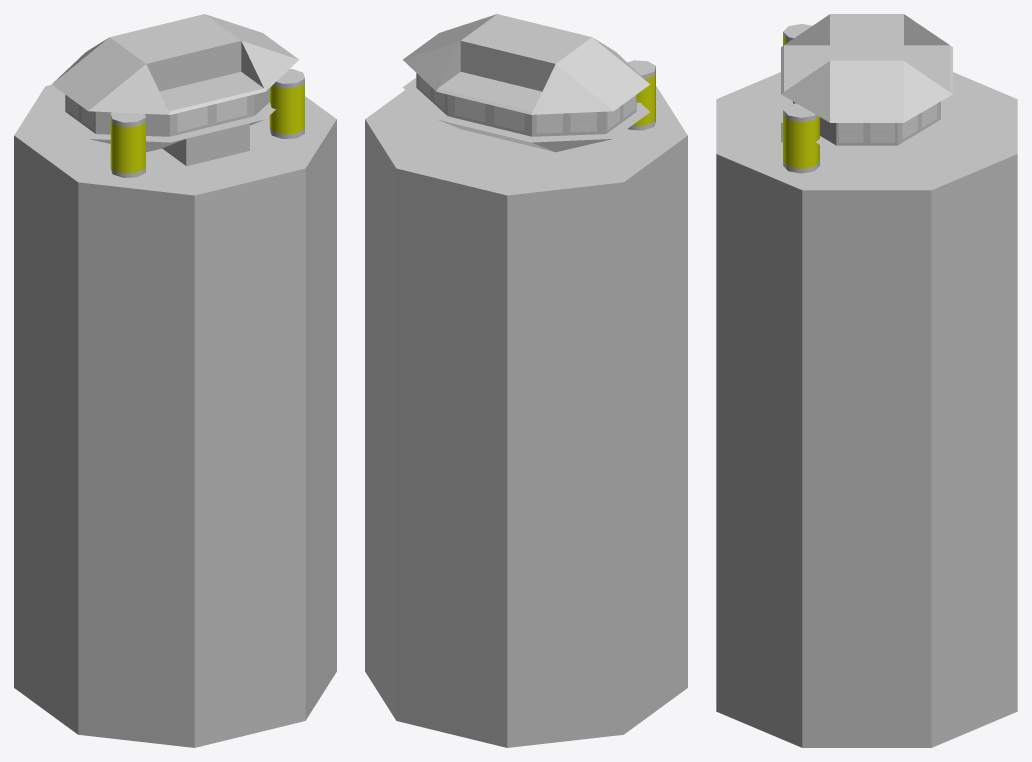
The model's file is factory1_lod1.dae.
The picture shows the model from 3 angles, left to right: view 1: azimuth 30°, elevation 25°; view 2: azimuth 150°, elevation 25°; view 3: azimuth 270°, elevation 25°; orthographic projection.
Visible parts, largest first — view 1: factory1_lod1; view 2: factory1_lod1; view 3: factory1_lod1.
Part boxes in pixels (box(x1,y1,x2,y2)): factory1_lod1: box(14, 14, 336, 747); factory1_lod1: box(365, 14, 687, 747); factory1_lod1: box(716, 14, 1017, 747).
Bounding box in the file's own units: 98 × 98 × 232.
